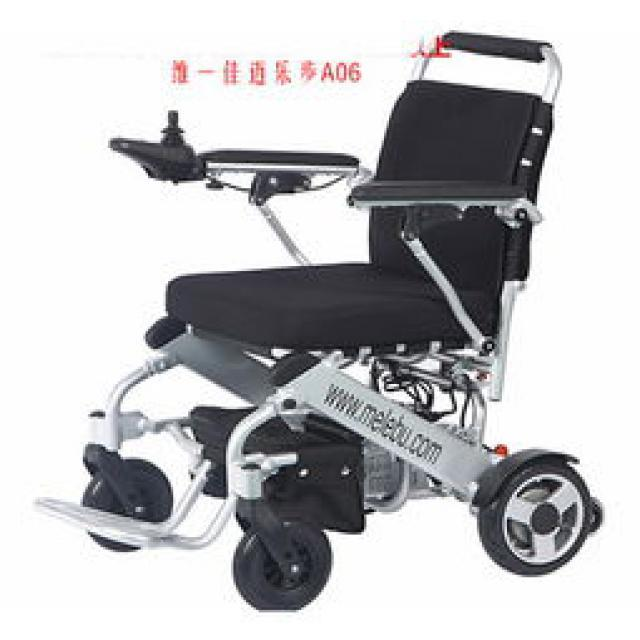wheelchair: (28, 22, 608, 638)
